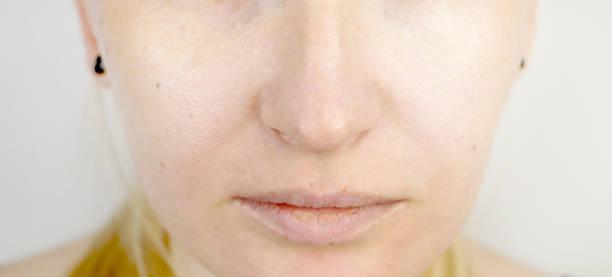Dry-Skin: (157, 136, 296, 216), (281, 58, 363, 169), (242, 21, 340, 92), (264, 189, 364, 254), (159, 34, 232, 122), (154, 158, 258, 201), (370, 16, 436, 83), (465, 69, 536, 131), (186, 151, 257, 206), (426, 64, 461, 141), (416, 191, 451, 225)
